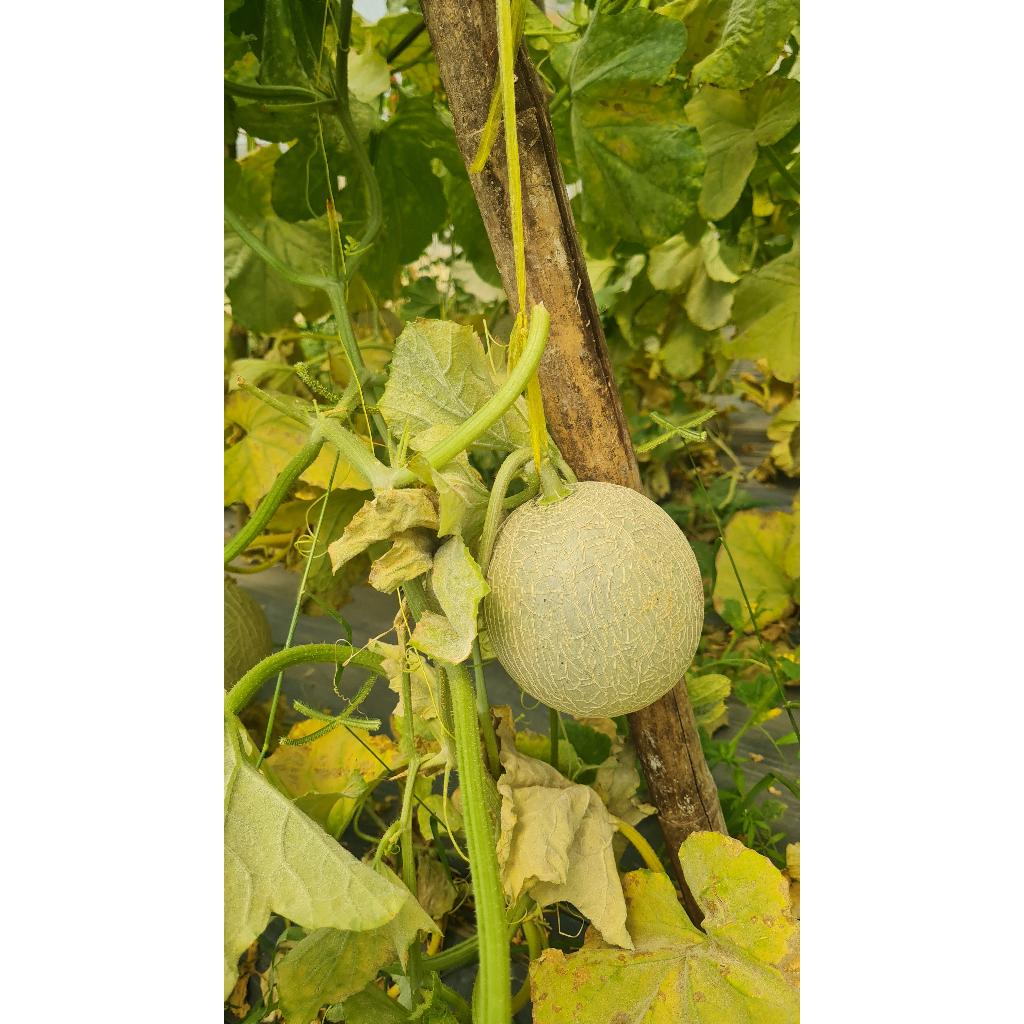melon: (484, 482, 704, 718)
